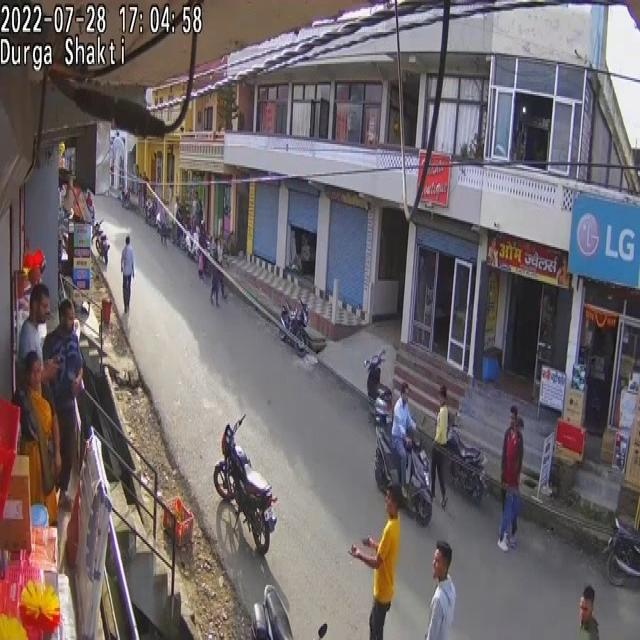non-fight: (348, 478, 401, 639), (44, 296, 84, 496), (18, 350, 62, 528), (498, 406, 524, 548), (17, 285, 51, 387), (392, 382, 417, 490), (430, 390, 450, 510), (198, 220, 225, 301), (424, 576, 455, 640), (120, 236, 134, 314), (214, 236, 226, 295), (210, 255, 221, 307), (198, 222, 209, 268), (173, 196, 181, 232)
